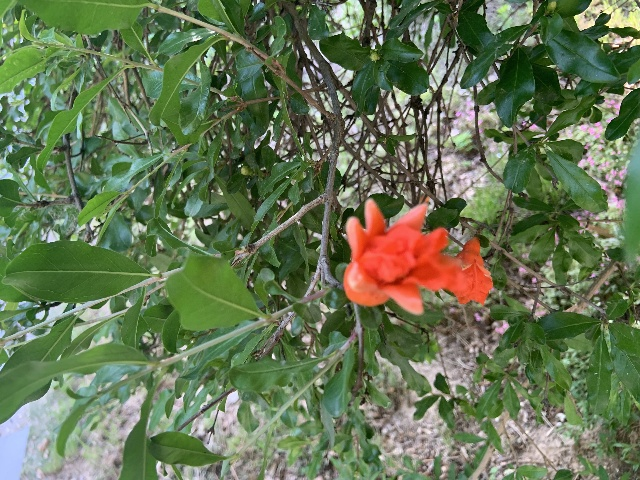flower: (343, 197, 463, 315), (456, 236, 493, 305)
